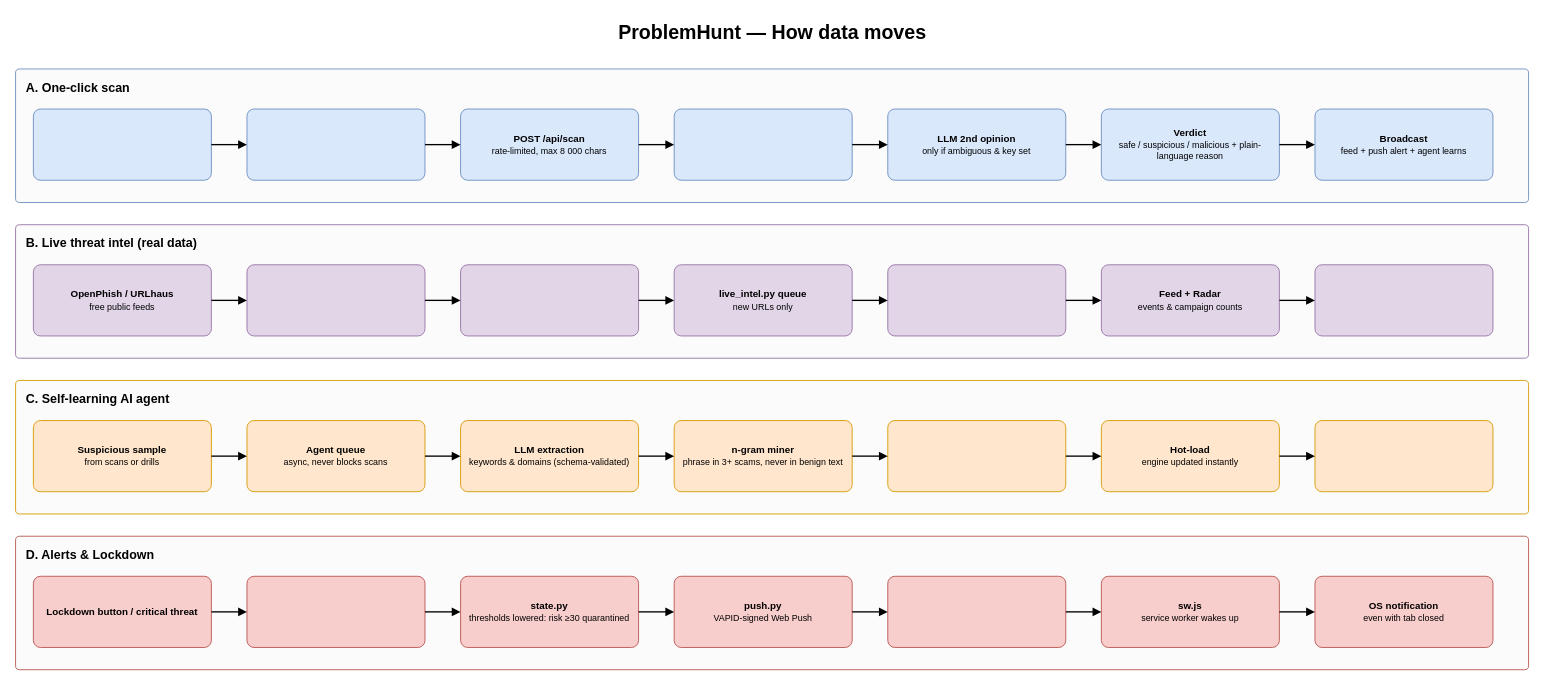
This 1544x685 diagram has some shape labels left out. Each missing label, with the centre of its shape:
"Classify & defang brand, malware, country TLD; hxxp://a[.]b" goes at pixel 976 300.
"Dashboard via WebSocket, Verify on VirusTotal" goes at pixel 1403 300.
"Detection engine signatures + URL heuristics + learned rules + intel blocklist" goes at pixel 762 144.
"intel.py fetch every 30 min" goes at pixel 335 300.
"Next scan caught by learned rule" goes at pixel 1403 456.
"POST /api/lockdown admin token on public deploys" goes at pixel 335 611.
"Push service FCM / Mozilla / Apple" goes at pixel 976 611.
"Rule store SQLite (+ Supabase)" goes at pixel 976 456.
"Scanner jsQR decodes QR on the device" goes at pixel 335 144.
"SQLite + blocklist IOCs hot-loaded into engine" goes at pixel 549 300.
"User pastes link / SMS, or scans QR" goes at pixel 121 144.
